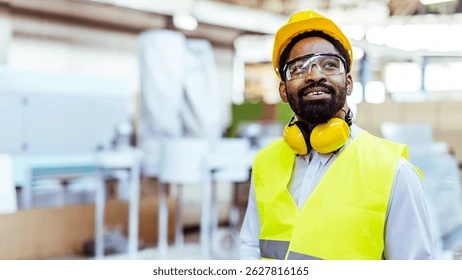safety_goggles: (260, 53, 368, 82)
